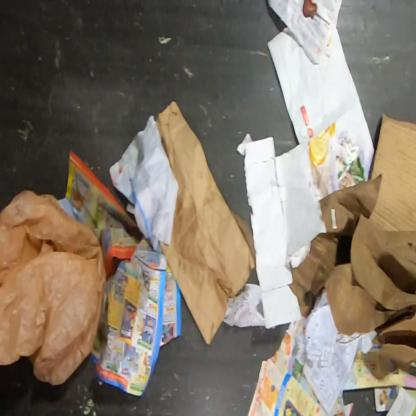cardboard: (243, 136, 415, 373), (155, 102, 256, 348), (244, 136, 302, 330), (367, 110, 415, 294)
soft_plastic: (0, 190, 107, 386)
